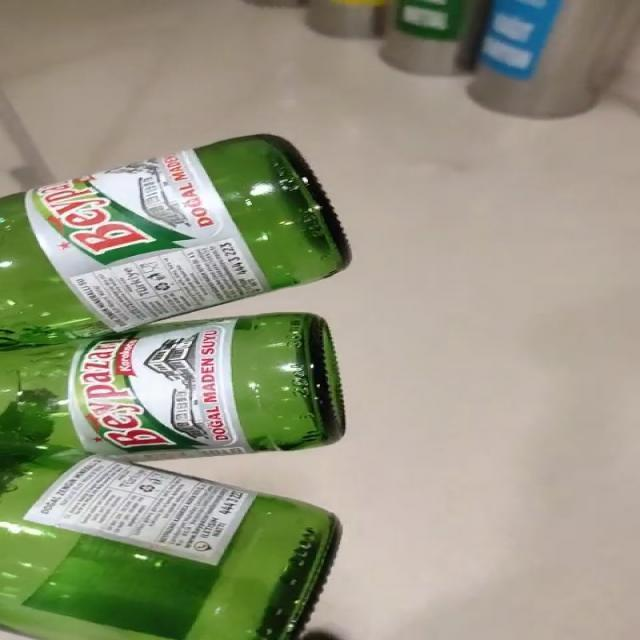Glass: (1, 134, 351, 640)
